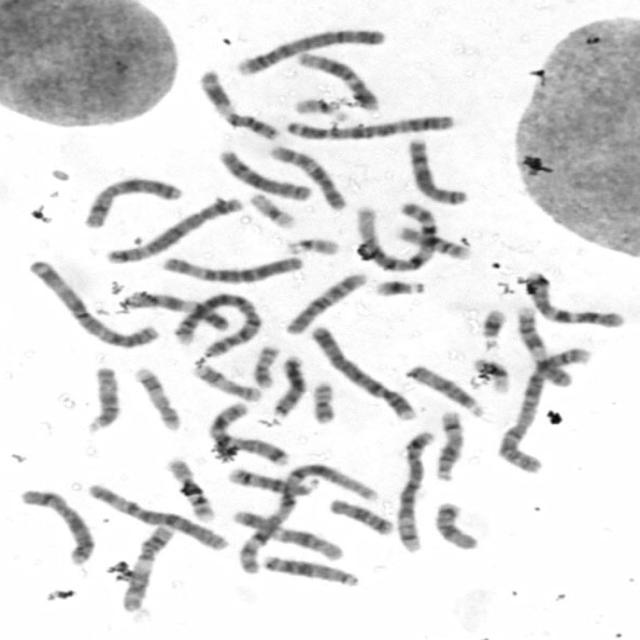A1: (230, 457, 381, 576), (349, 197, 442, 272)
A2: (493, 342, 596, 475), (169, 288, 263, 358)
A3: (23, 253, 164, 350), (279, 108, 458, 142)
B4: (306, 319, 419, 422), (232, 22, 390, 76)
B5: (101, 191, 245, 266), (390, 426, 439, 554)
C10: (281, 268, 371, 336), (264, 141, 349, 211)
C11: (192, 64, 282, 141), (116, 520, 176, 613)
C12: (227, 503, 346, 562), (292, 46, 382, 112)
C6: (83, 478, 233, 552), (155, 249, 309, 285)
C7: (518, 266, 630, 328), (202, 397, 293, 467)
C8: (214, 144, 316, 202), (403, 133, 471, 207)
C9: (512, 301, 575, 389), (119, 288, 232, 332)
D13: (260, 550, 362, 589), (268, 351, 308, 419)
D14: (222, 463, 320, 497), (429, 405, 467, 482)
D15: (400, 360, 487, 417), (80, 360, 124, 436)
E16: (160, 452, 218, 522), (392, 220, 474, 262)
E17: (129, 362, 183, 432), (187, 358, 265, 404)
E18: (324, 494, 397, 536), (429, 497, 482, 552)
F19: (244, 188, 299, 230), (467, 354, 512, 394)
F20: (247, 339, 283, 388), (306, 375, 339, 425)
G21: (475, 304, 509, 351), (369, 274, 429, 299)
G22: (290, 92, 350, 118), (282, 232, 343, 257)
X: (14, 484, 98, 565), (77, 172, 185, 230)
